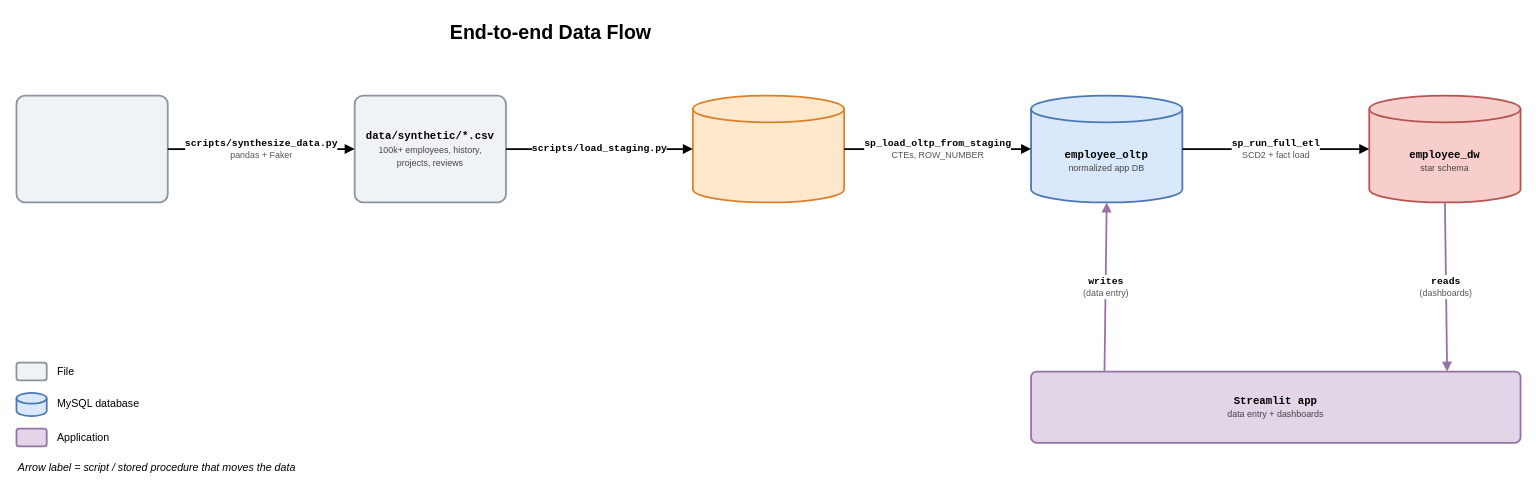
This 1536x493 diagram has some shape labels left out. Each missing label, with the centre of its shape:
employee_staging raw, messy: the point at 768,148
IBM HR CSV 1,470 rows (source snapshot): the point at 91,148
